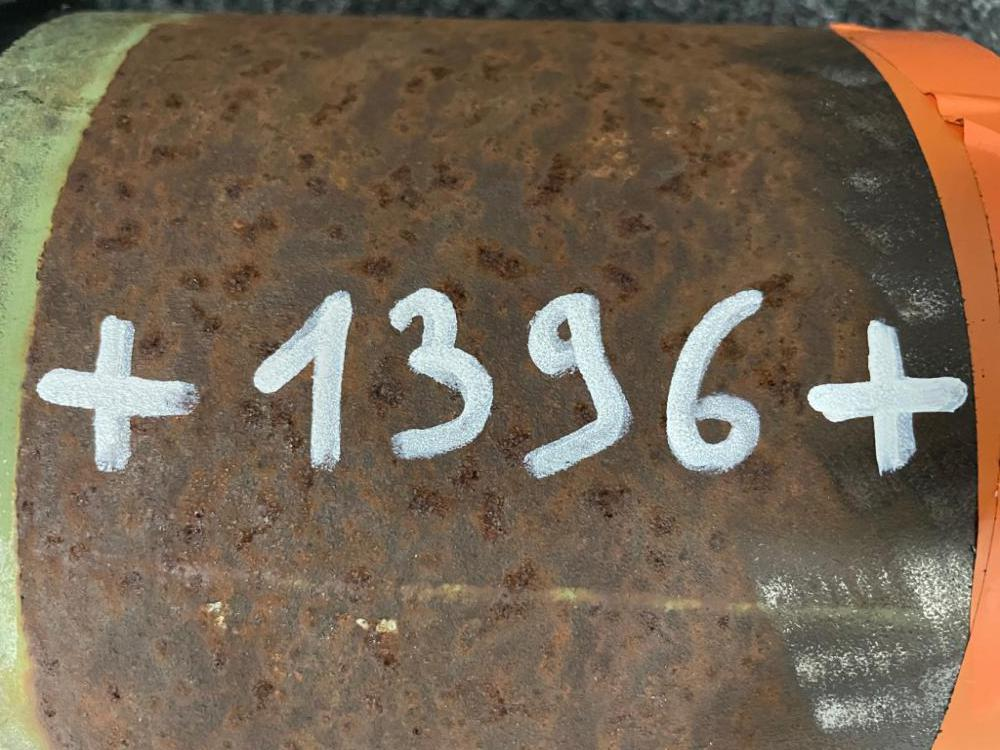+: (27, 269, 198, 433), (799, 278, 967, 439)
1: (645, 272, 750, 463)
3: (504, 286, 618, 465)
6: (233, 272, 340, 464)
9: (364, 268, 488, 460)
